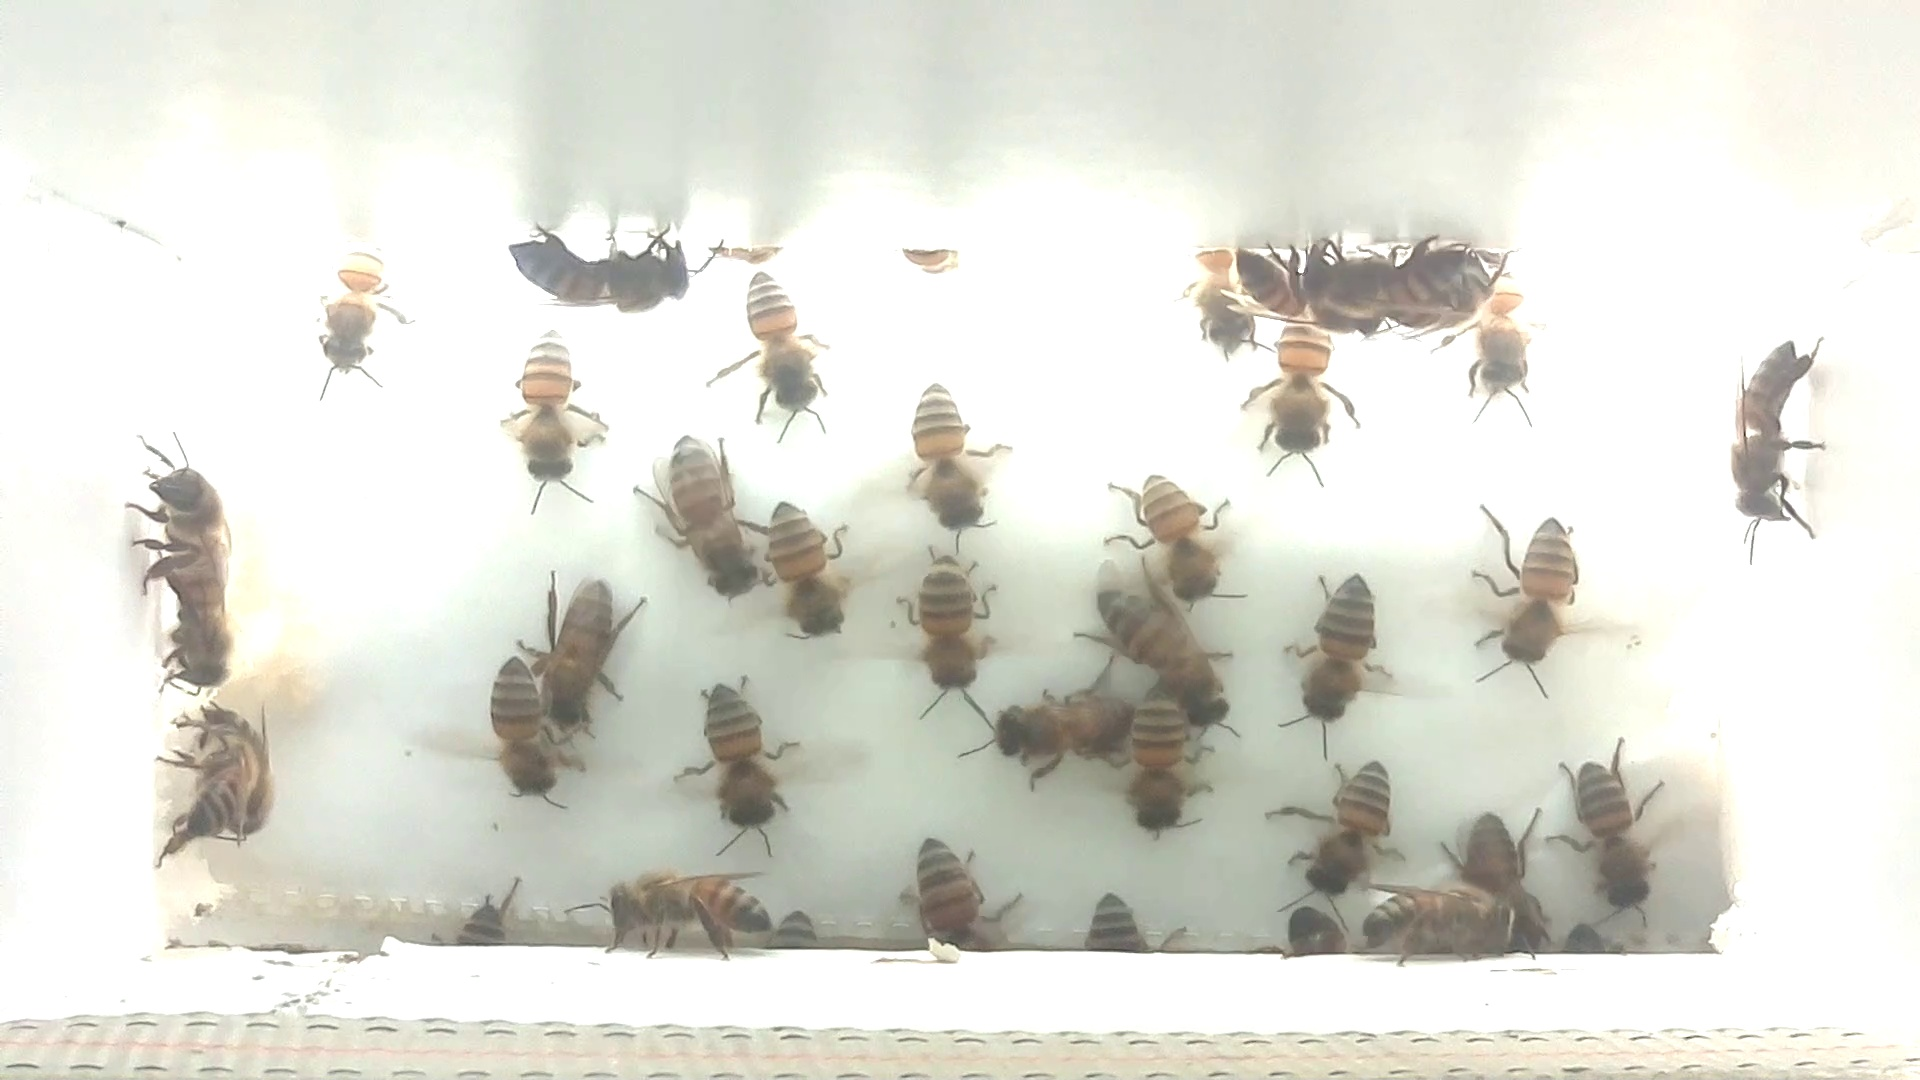bee: (655, 655, 839, 861), (1695, 313, 1836, 550), (1076, 564, 1255, 741), (1458, 489, 1604, 702), (1249, 728, 1408, 918), (953, 655, 1160, 800), (1269, 558, 1411, 764), (484, 311, 621, 524), (1542, 729, 1680, 934), (443, 644, 601, 822), (1093, 460, 1265, 621), (894, 367, 1029, 568), (493, 208, 725, 324), (713, 261, 856, 444), (630, 425, 766, 615), (1234, 301, 1365, 491), (516, 546, 647, 733), (585, 851, 786, 967), (887, 535, 1006, 725), (1340, 868, 1549, 975), (876, 822, 1033, 963), (744, 495, 876, 659), (285, 229, 415, 396), (1443, 258, 1559, 434), (129, 429, 245, 604), (1105, 675, 1222, 845), (160, 700, 278, 851), (1170, 228, 1274, 368), (1369, 233, 1501, 342), (1451, 803, 1555, 930), (152, 574, 247, 705), (419, 861, 545, 960), (1222, 222, 1325, 336), (1073, 878, 1193, 971), (1265, 895, 1354, 967), (895, 233, 967, 284)
